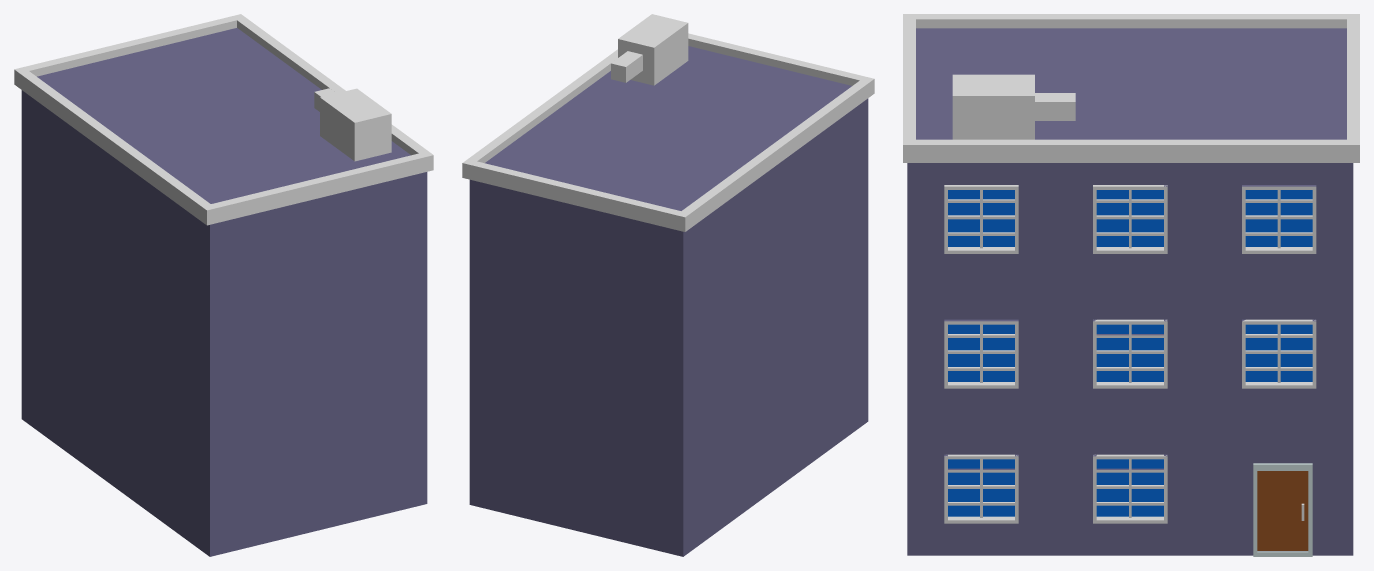
Rendered from NEWbuild2 1.fbx.
3 renders of one model, left to right at view 1: azimuth 30°, elevation 25°; view 2: azimuth 150°, elevation 25°; view 3: azimuth 270°, elevation 25°, orthographic. The views are drawn at different scales.
Visible parts, largest first — view 1: Cube.009, Cube.001, Cube, Cube.011, Cube.010, Cube.015, Cube.007, Cube.008, Cube.002, Cube.003, Cube.013; view 2: Cube.011, Cube.008, Cube.007, Cube.010, Cube.009, Cube.015, Cube.004, Cube.001, Cube, Cube.002, Cube.003, Cube.013 (+1 smaller); view 3: Cube.010, Cube.011, Cube.009, Cube.015, Cube.008, Cube, Cube.001, Cube.002, Cube.003, Cube.004, Cube.013, Cube.006 (+2 smaller).
Part boxes in pixels (<box>): Cube.009: <box>147,127,427,329</box>; Cube.001: <box>147,276,427,442</box>; Cube: <box>147,390,427,556</box>; Cube.011: <box>21,28,296,236</box>; Cube.010: <box>84,72,321,282</box>; Cube.015: <box>14,14,433,225</box>; Cube.007: <box>21,306,84,464</box>; Cube.008: <box>21,192,84,350</box>; Cube.002: <box>84,351,146,510</box>; Cube.003: <box>84,238,146,396</box>; Cube.013: <box>320,88,391,161</box>; Cube.011: <box>469,125,744,333</box>; Cube.008: <box>469,281,744,444</box>; Cube.007: <box>576,400,744,556</box>; Cube.010: <box>536,80,806,287</box>; Cube.009: <box>598,46,868,242</box>; Cube.015: <box>462,33,874,231</box>; Cube.004: <box>469,393,576,530</box>; Cube.001: <box>806,198,868,354</box>; Cube: <box>806,310,868,466</box>; Cube.002: <box>745,355,806,511</box>; Cube.003: <box>745,243,806,399</box>; Cube.013: <box>618,14,688,85</box>; Cube.010: <box>1056,28,1204,285</box>; Cube.011: <box>1204,28,1353,285</box>; Cube.009: <box>907,28,1055,285</box>; Cube.015: <box>903,14,1359,162</box>; Cube.008: <box>1204,286,1353,420</box>; Cube: <box>907,421,1055,555</box>; Cube.001: <box>907,286,1055,420</box>; Cube.002: <box>1056,421,1204,555</box>; Cube.003: <box>1056,286,1204,420</box>; Cube.004: <box>1204,421,1353,555</box>; Cube.013: <box>952,74,1034,139</box>; Cube.006: <box>1257,471,1308,550</box>.
Bounding box in the file's own units: 417 × 668 × 614.
